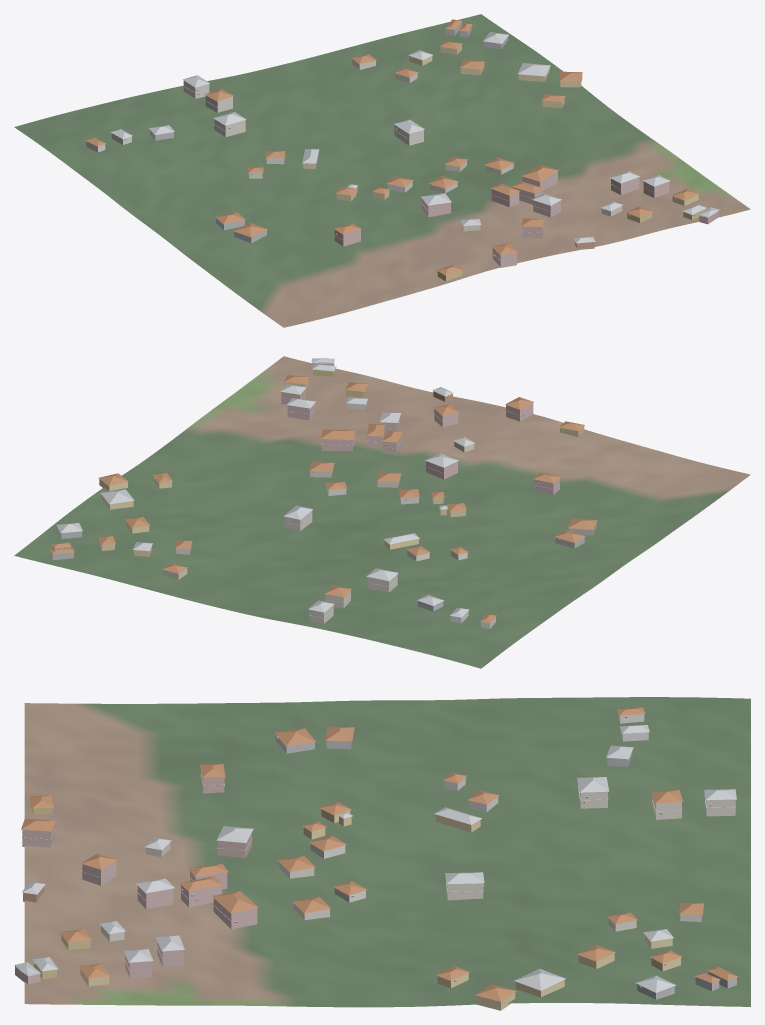
3 renders of one model, top to bottom at view 1: azimuth 30°, elevation 25°; view 2: azimuth 150°, elevation 25°; view 3: azimuth 270°, elevation 25°, orthographic. The views are drawn at different scales.
Parts seen in each view (by area): view 1: Terrain-col, Buildings-col, Details; view 2: Terrain-col, Buildings-col, Details; view 3: Terrain-col, Buildings-col, Details.
Part boxes in pixels (x1=…): Terrain-col: x1=14, y1=14, x2=750, y2=327; Buildings-col: x1=85, y1=19, x2=719, y2=281; Details: x1=124, y1=43, x2=701, y2=261; Terrain-col: x1=14, y1=356, x2=750, y2=668; Buildings-col: x1=50, y1=358, x2=597, y2=628; Details: x1=98, y1=363, x2=562, y2=618; Terrain-col: x1=24, y1=697, x2=750, y2=1007; Buildings-col: x1=14, y1=707, x2=738, y2=1010; Details: x1=22, y1=716, x2=735, y2=987.
Bounding box in the file's own units: 261 × 13.12 × 260.
